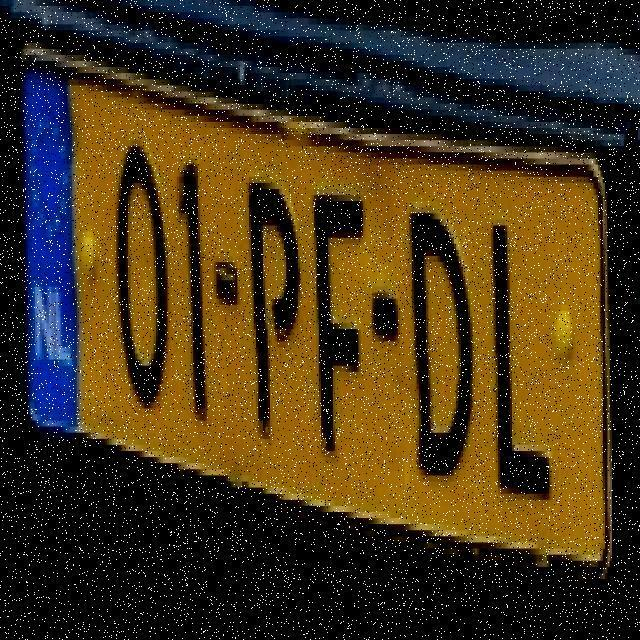LicensePlate: (19, 38, 611, 592)
